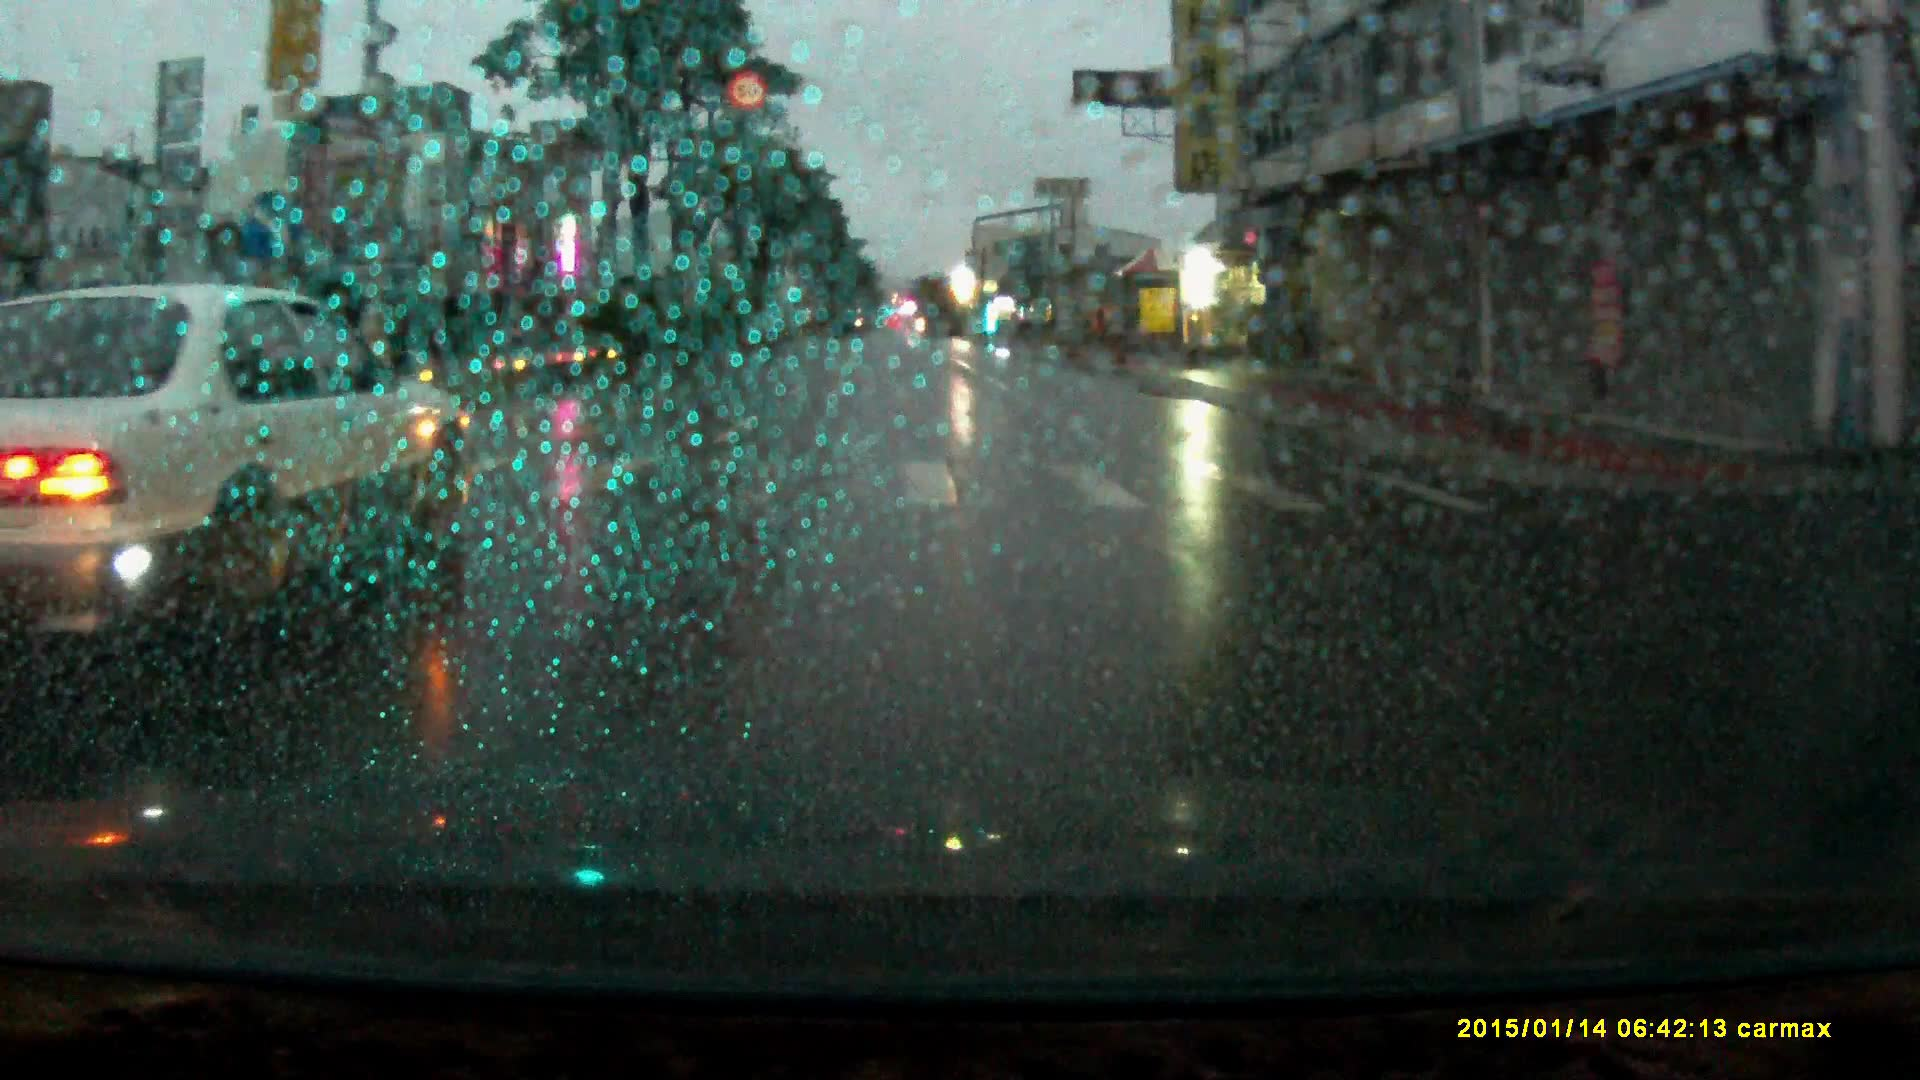vehicle: (1, 287, 483, 647)
